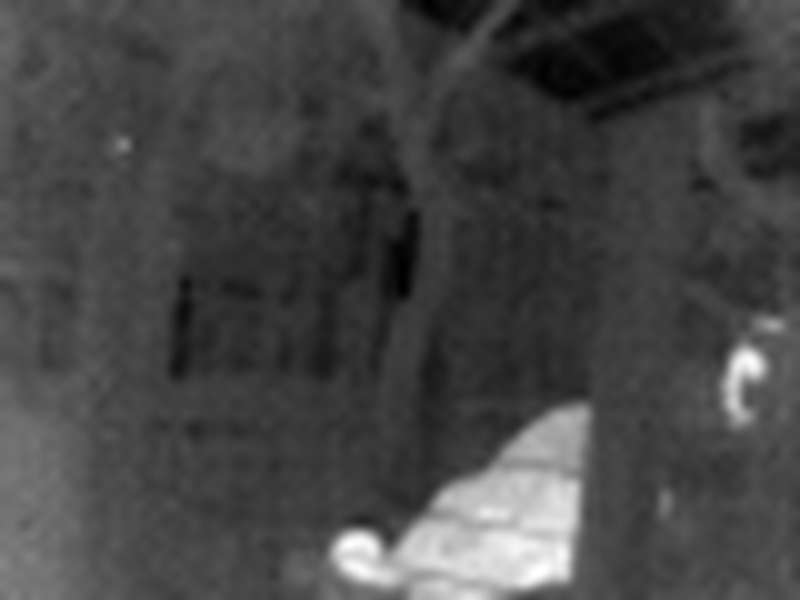elephant: (313, 392, 687, 600)
